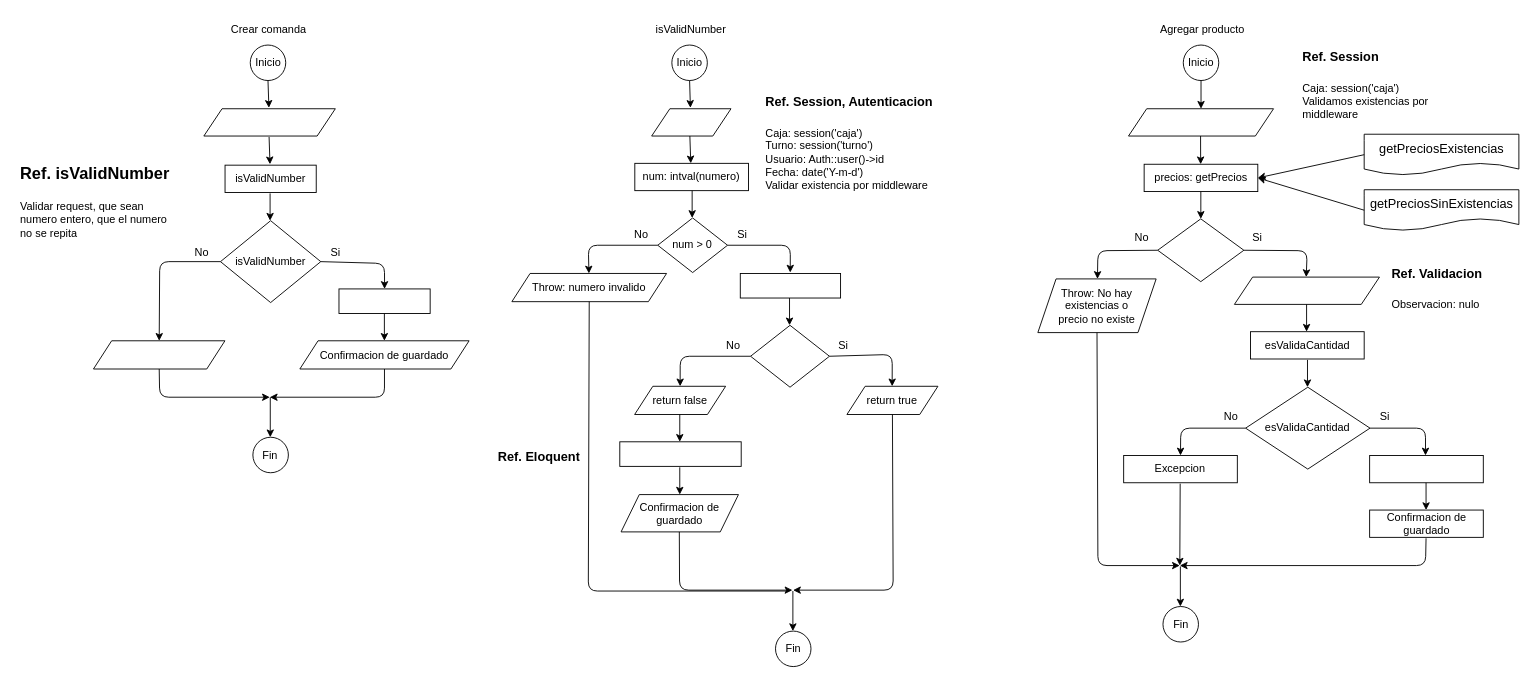
Some shapes in this 1535 by 683 pixel diagram are drawn without their labels. Here are the shapes that lost their labels. From the top down, the centre of each, then its label:
the point at 269,122: numero_comanda
the point at 691,122: numero
the point at 1201,122: nombre, bodega, caja
the point at 1200,250: precios > 0
the point at 384,300: storeComanda
the point at 790,285: result: db:getExist
the point at 1306,290: cantidad, observacion
the point at 159,354: Errores
the point at 789,355: result == 0
the point at 680,453: new comandas:class
the point at 1426,469: storeComandaDetalle
